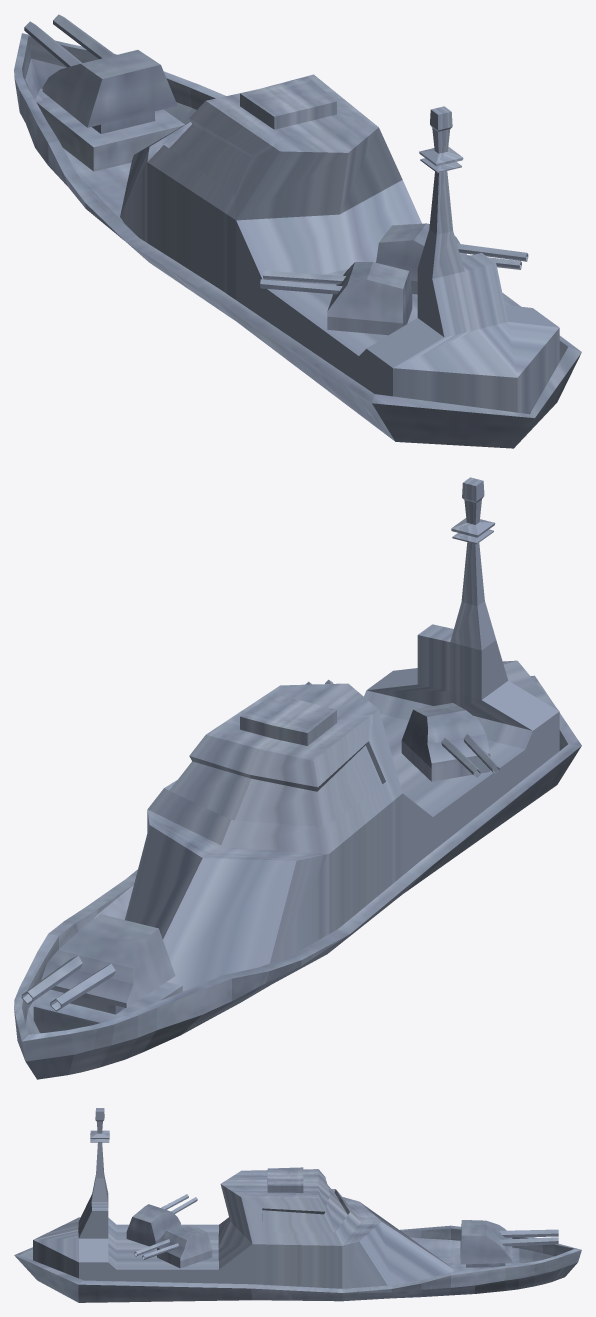
The model's file is Frigate.obj.
3 renders of one model, top to bottom at view 1: azimuth 30°, elevation 25°; view 2: azimuth 150°, elevation 25°; view 3: azimuth 270°, elevation 25°, orthographic. The views are drawn at different scales.
Parts seen in each view (by area): view 1: Frigate; view 2: Frigate; view 3: Frigate.
Part boxes in pixels (box(x1,y1,x2,y2)): Frigate: box(14, 14, 581, 448); Frigate: box(14, 477, 581, 1079); Frigate: box(14, 1108, 581, 1302).
Bounding box in the file's own units: 2.97 × 3.69 × 11.37.
